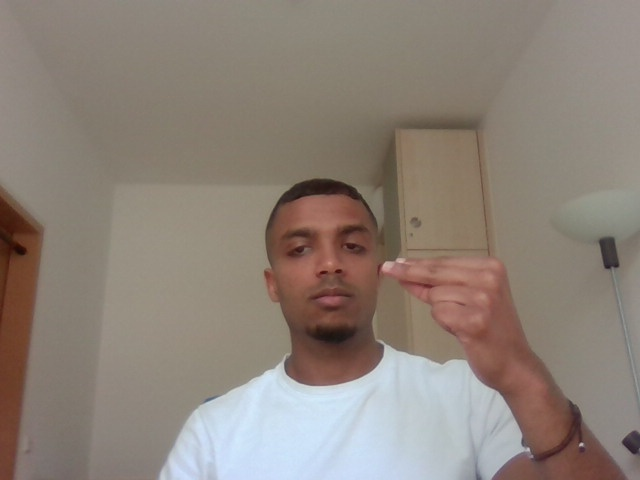no: (379, 243, 553, 400)
